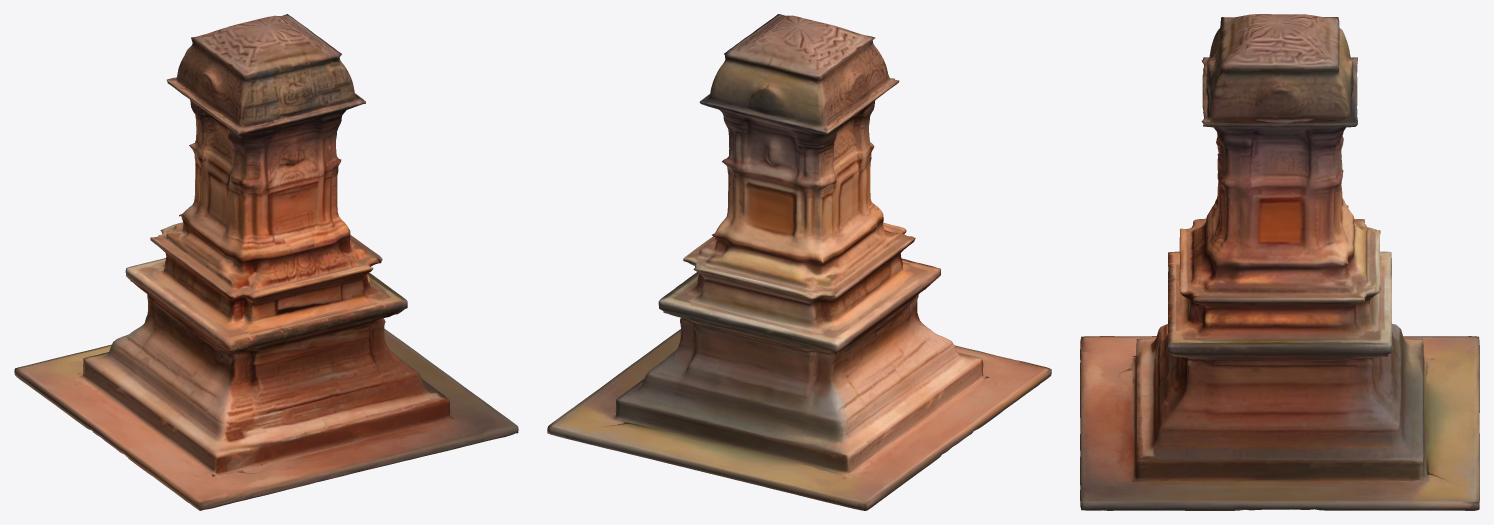
File: candi-jabung.glb
The picture shows the model from 3 angles, left to right: view 1: azimuth 30°, elevation 25°; view 2: azimuth 150°, elevation 25°; view 3: azimuth 270°, elevation 25°; orthographic projection. The views are drawn at different scales.
Visible parts, largest first — view 1: Object_4; view 2: Object_4; view 3: Object_4.
Boxes of the visible parts, x1,y1,x2,y2 form: Object_4: [14, 14, 518, 510]; Object_4: [547, 14, 1051, 510]; Object_4: [1080, 14, 1479, 510].
Size of the model in its own units: 1.77 by 2 by 1.79.
1 material, 1 textured.
